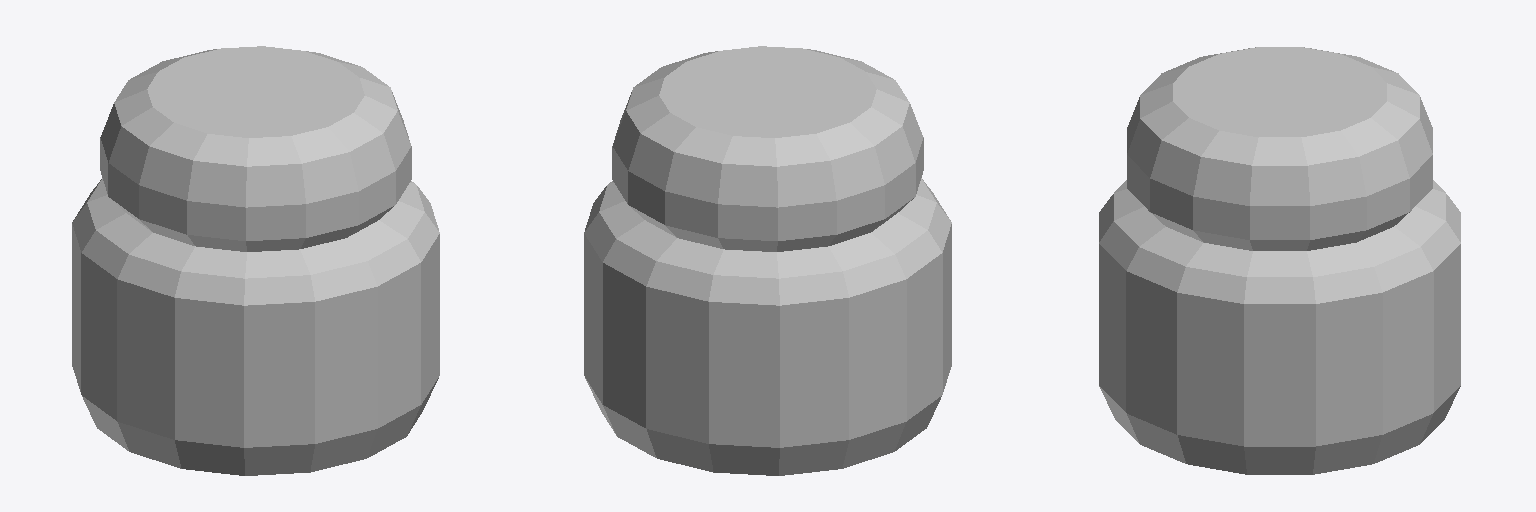
Rendered from container_bathroom_C_pink.obj.
3 views of the same model, side by side, from view 1: azimuth 30°, elevation 25°; view 2: azimuth 150°, elevation 25°; view 3: azimuth 270°, elevation 25° (orthographic).
Parts seen in each view (by area): view 1: container_bathroom_C_pink; view 2: container_bathroom_C_pink; view 3: container_bathroom_C_pink.
Part boxes in pixels (bbox=[...]): container_bathroom_C_pink: bbox=[72, 46, 439, 475]; container_bathroom_C_pink: bbox=[584, 46, 951, 475]; container_bathroom_C_pink: bbox=[1099, 47, 1460, 474].
Size of the model in its own units: 0.312 by 0.3119 by 0.3126.